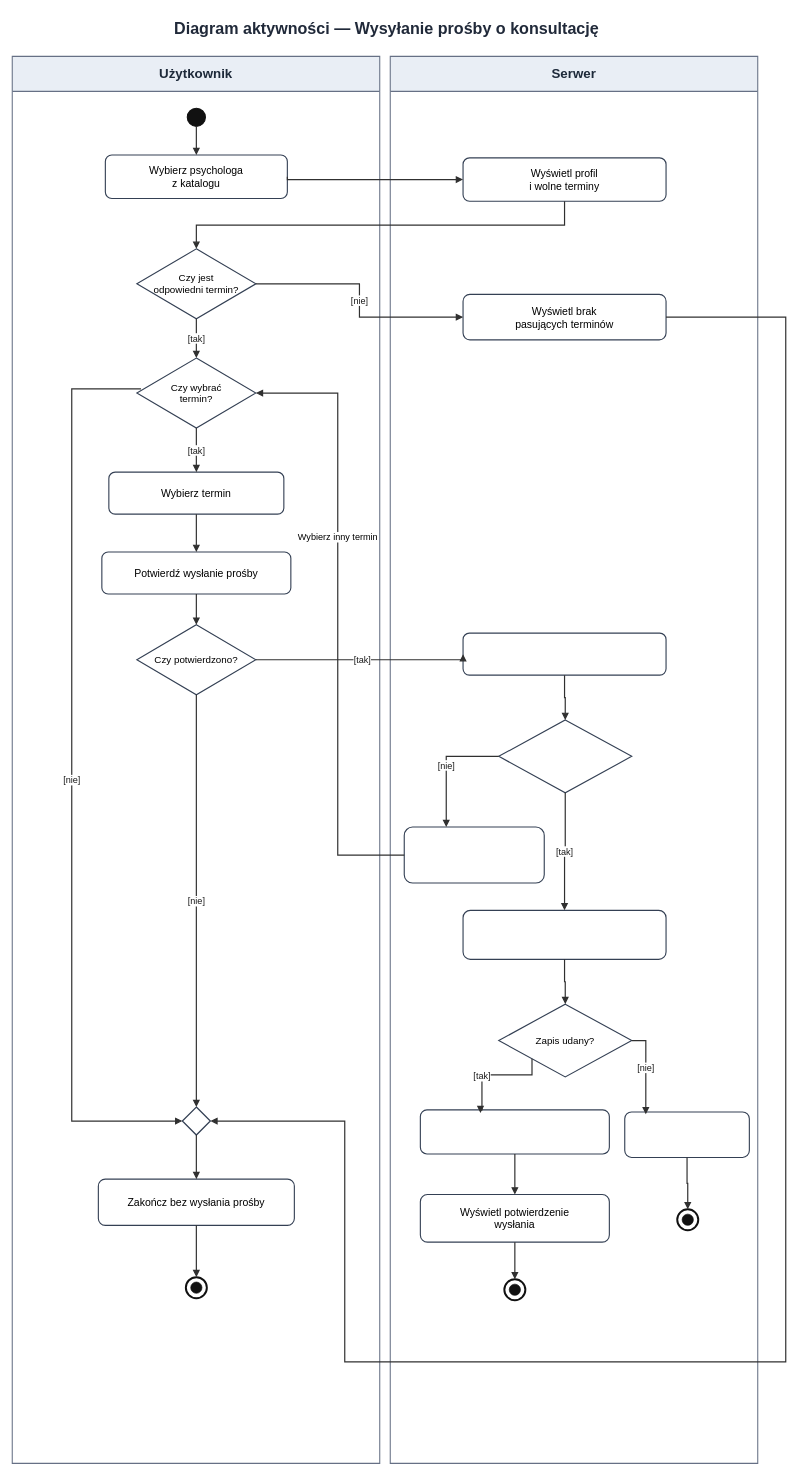
Image size: 804x1476. Some labels were removed from this diagram. The shapes that lost their labels are listed below. From the top down, each one's centre as x and y in pixels, then its label:
At [564,653]: "Sprawdź dostępność terminu".
At [565,756]: "Termin nadal wolny?".
At [473,854]: "Wyświetl informację o niedostępnym terminie".
At [564,934]: "Zapisz prośbę ze statusem „Oczekująca”".
At [514,1131]: "Przekaż prośbę psychologowi".
At [687,1134]: "Wyświetl błąd zapisu".
